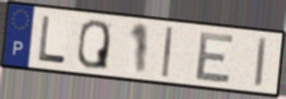1: (127, 22, 148, 77)
E: (193, 31, 237, 85)
I: (253, 35, 269, 90), (160, 25, 175, 80)
L: (37, 14, 68, 66)
Q: (75, 18, 112, 71)
